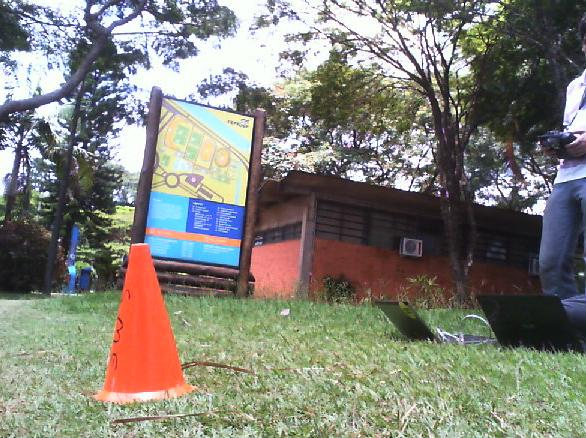0 cone: (92, 243, 197, 405)
